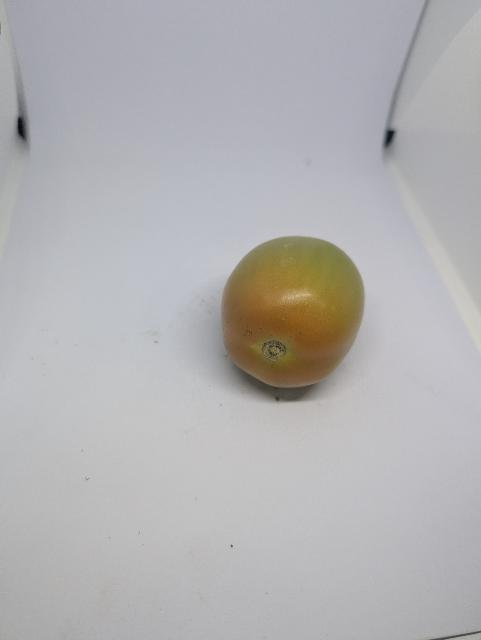breaker: (222, 237, 365, 388)
